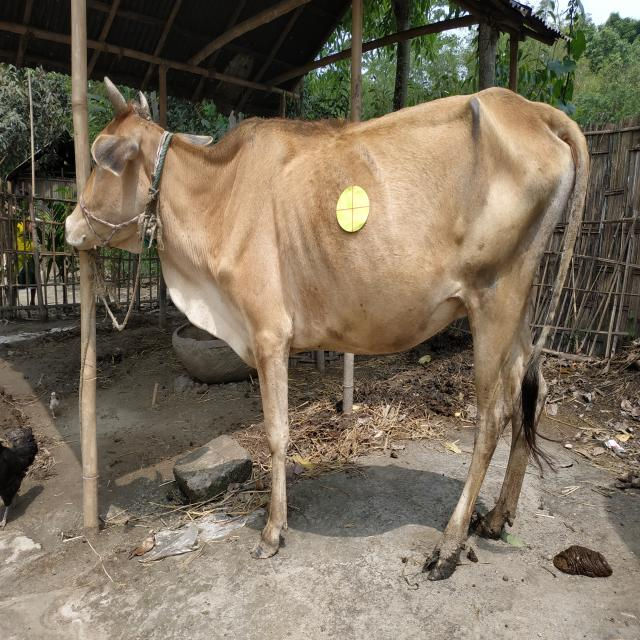badan_sapi: (234, 119, 570, 353)
sapi: (56, 65, 584, 584)
